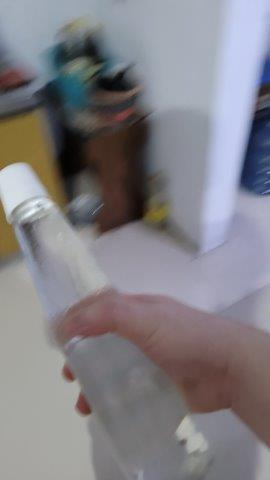botolkaca: (1, 165, 212, 480)
